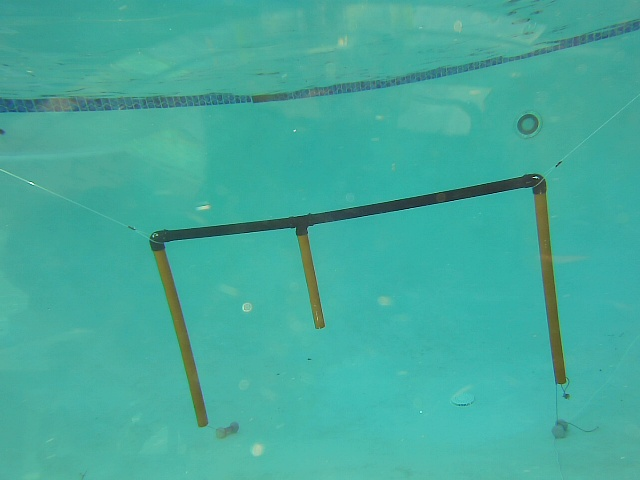Gate: (147, 243, 211, 431), (527, 187, 570, 392), (294, 227, 328, 335)
